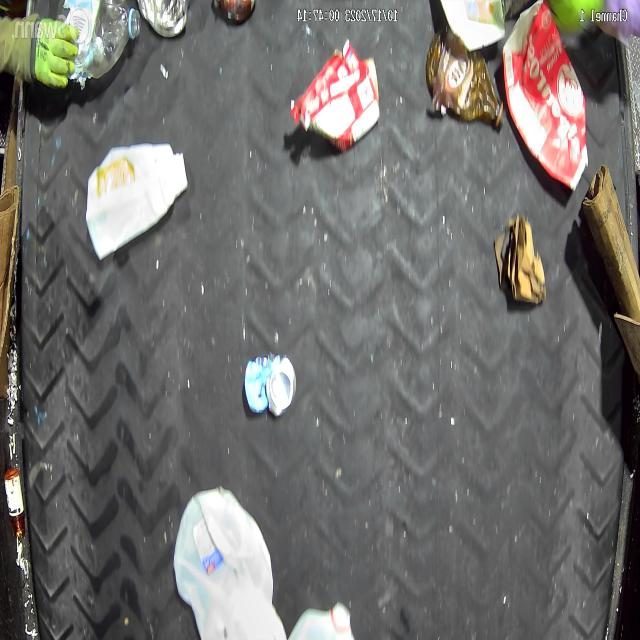can: (243, 352, 296, 418)
milk_jug: (173, 487, 287, 640), (85, 143, 188, 260), (287, 600, 358, 640)
non_white_jug: (502, 0, 588, 191)
plastic_bottle: (56, 0, 140, 77)
